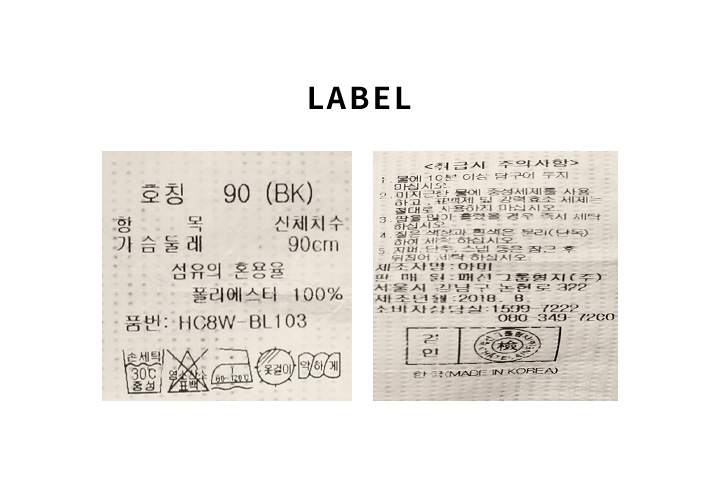KR_gentle_wring: (296, 350, 342, 382)
KR_hand_wash_30_neutral: (119, 345, 165, 395)
KR_hang_dry_in_shade: (253, 345, 297, 387)
KR_iron_low_temp_with_cloth: (208, 344, 255, 392)
KR_no_bleach: (166, 348, 209, 394)
